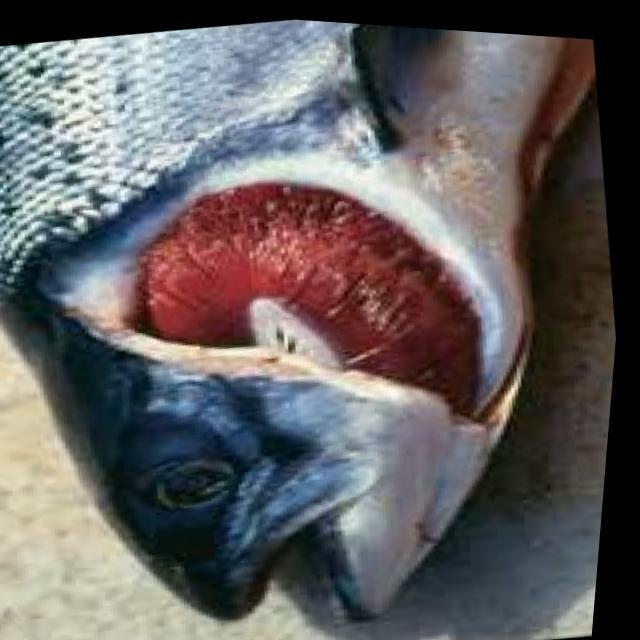Gill Disease: (1, 128, 582, 448)
